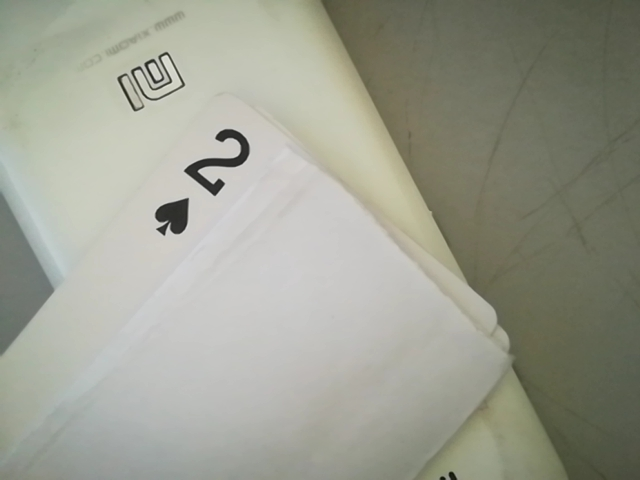ht 2: (140, 117, 277, 240)
